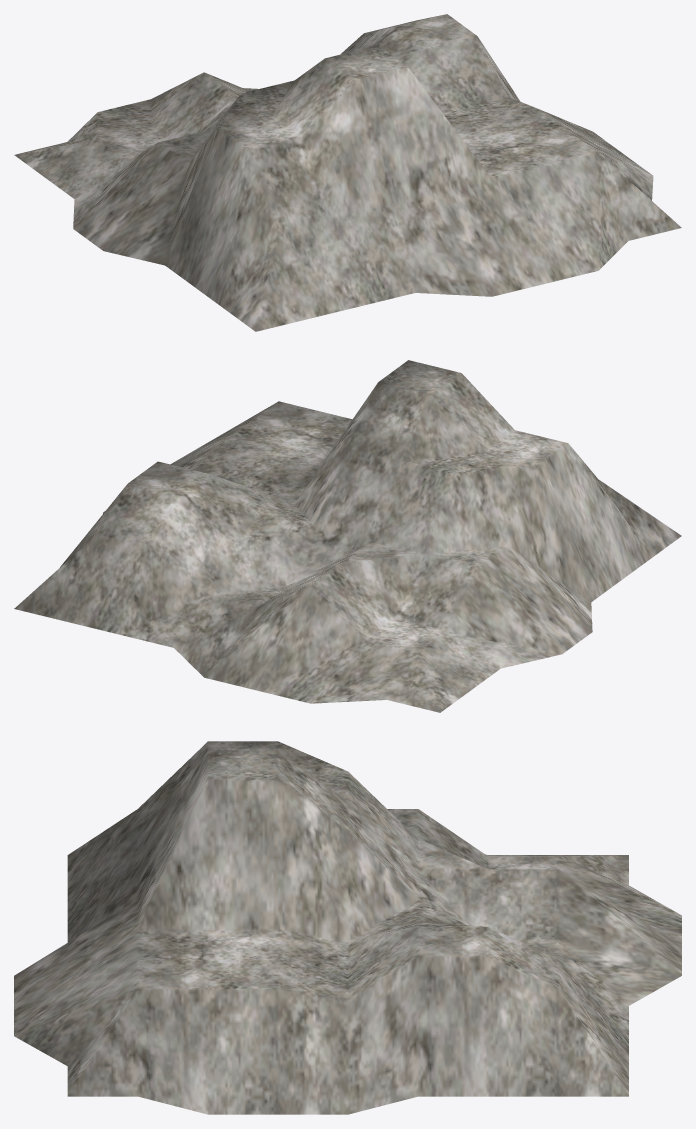
Rendered from DEBREE_CNTR_PLAIN.fbx.
3 views of the same model, one above another, from view 1: azimuth 30°, elevation 25°; view 2: azimuth 150°, elevation 25°; view 3: azimuth 270°, elevation 25° (orthographic). The views are drawn at different scales.
Visible parts, largest first — view 1: DEBREE_CNTR_PLAIN; view 2: DEBREE_CNTR_PLAIN; view 3: DEBREE_CNTR_PLAIN.
Boxes of the visible parts, x1,y1,x2,y2 form: DEBREE_CNTR_PLAIN: [14, 14, 681, 331]; DEBREE_CNTR_PLAIN: [14, 360, 681, 712]; DEBREE_CNTR_PLAIN: [14, 741, 681, 1114].
Size of the model in its own units: 58077 by 19061 by 59122.
1 material, 1 textured.
